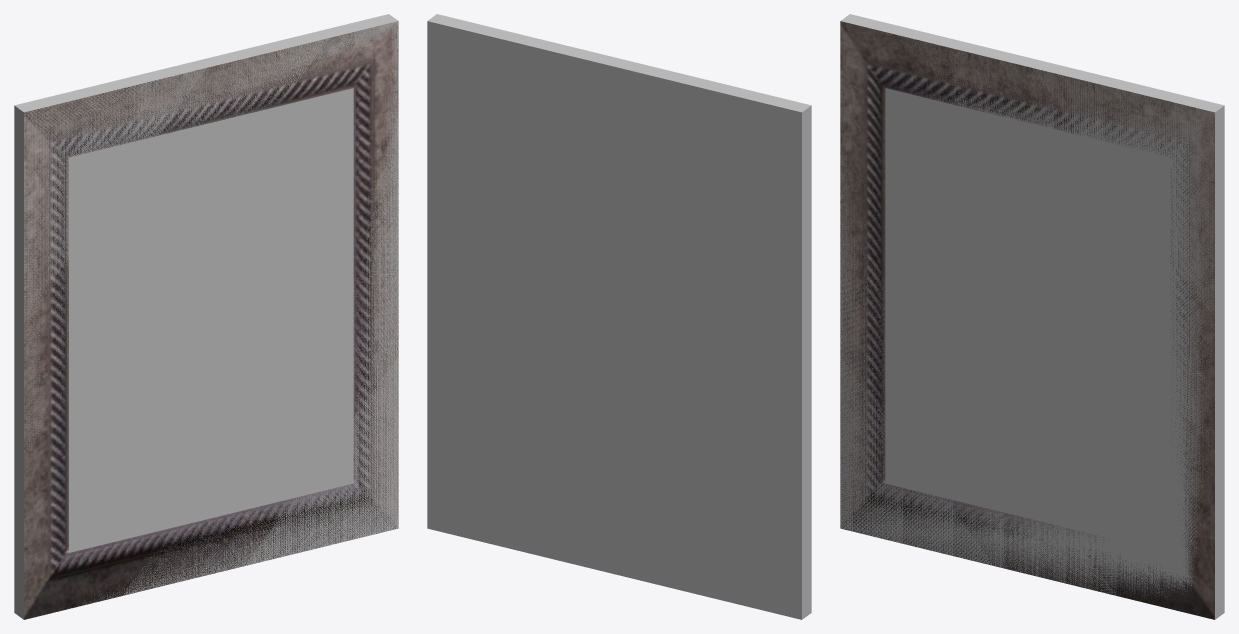
The model's file is painting_08.DAE.
The picture shows the model from 3 angles, left to right: view 1: azimuth 30°, elevation 25°; view 2: azimuth 150°, elevation 25°; view 3: azimuth 330°, elevation 25°; orthographic projection.
Visible parts, largest first — view 1: bounds, painting_eight100; view 2: bounds; view 3: bounds, painting_eight100.
Boxes of the visible parts, x1,y1,x2,y2 form: bounds: [14, 14, 398, 619]; painting_eight100: [24, 21, 398, 619]; bounds: [427, 14, 811, 619]; bounds: [840, 14, 1224, 619]; painting_eight100: [840, 21, 1214, 619].
Bounding box in the file's own units: 85.37 × 3.82 × 111.
